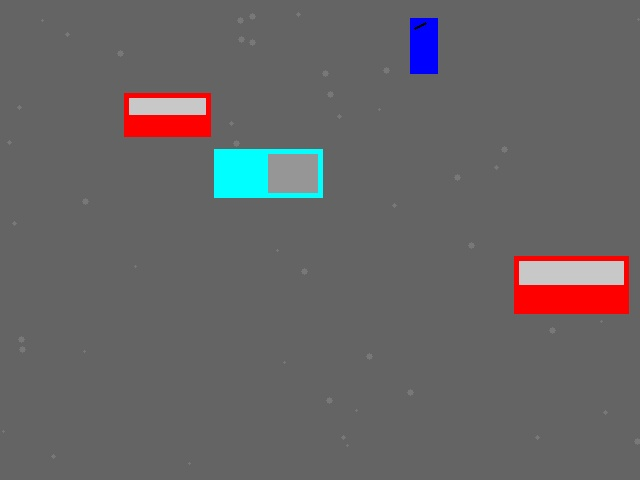car: (514, 256, 628, 313), (124, 93, 210, 136)
motorcycle: (410, 18, 437, 73)
truck: (214, 149, 322, 197)
